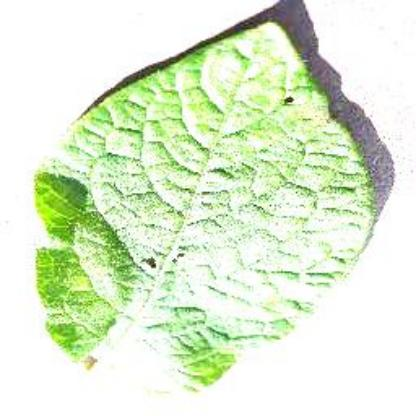Healthy-plant: (24, 14, 390, 400)
